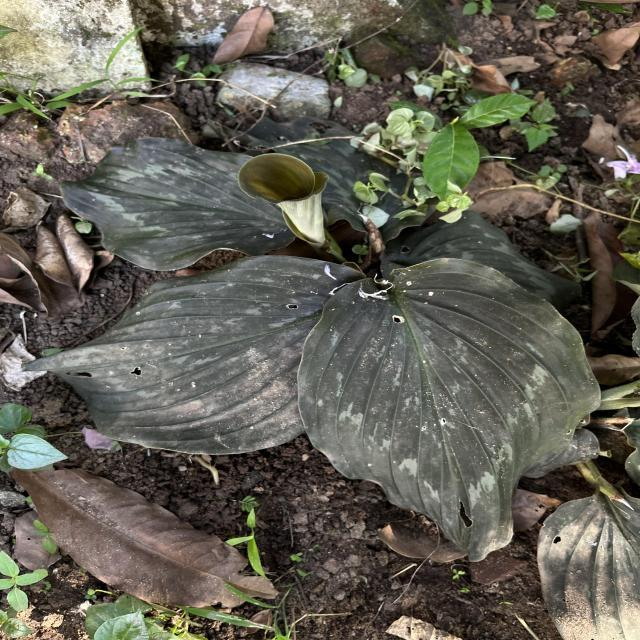Kaempferia galanga linn: (295, 255, 604, 564), (18, 253, 370, 457)
